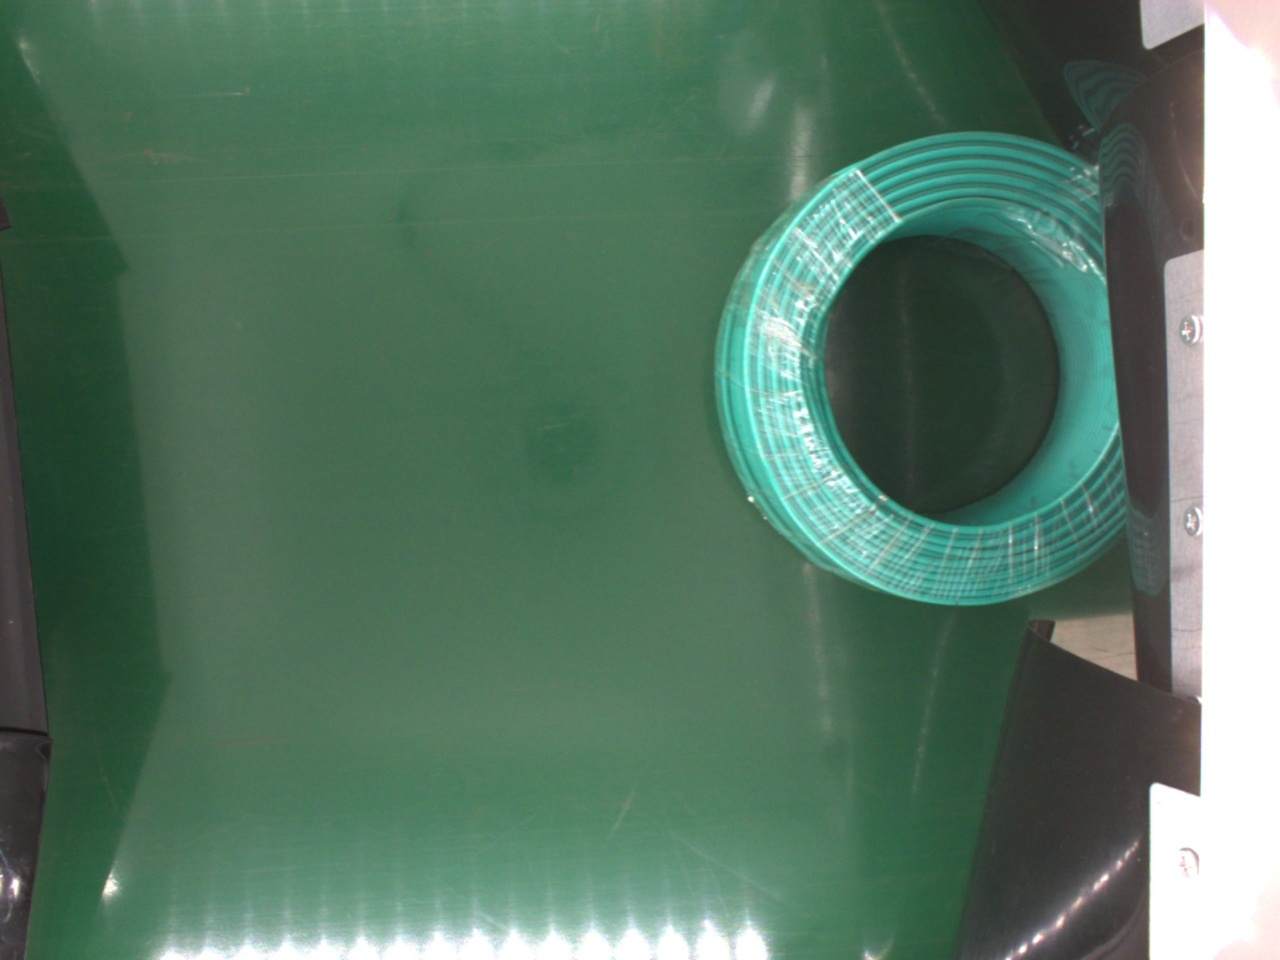green: (706, 127, 1136, 613)
